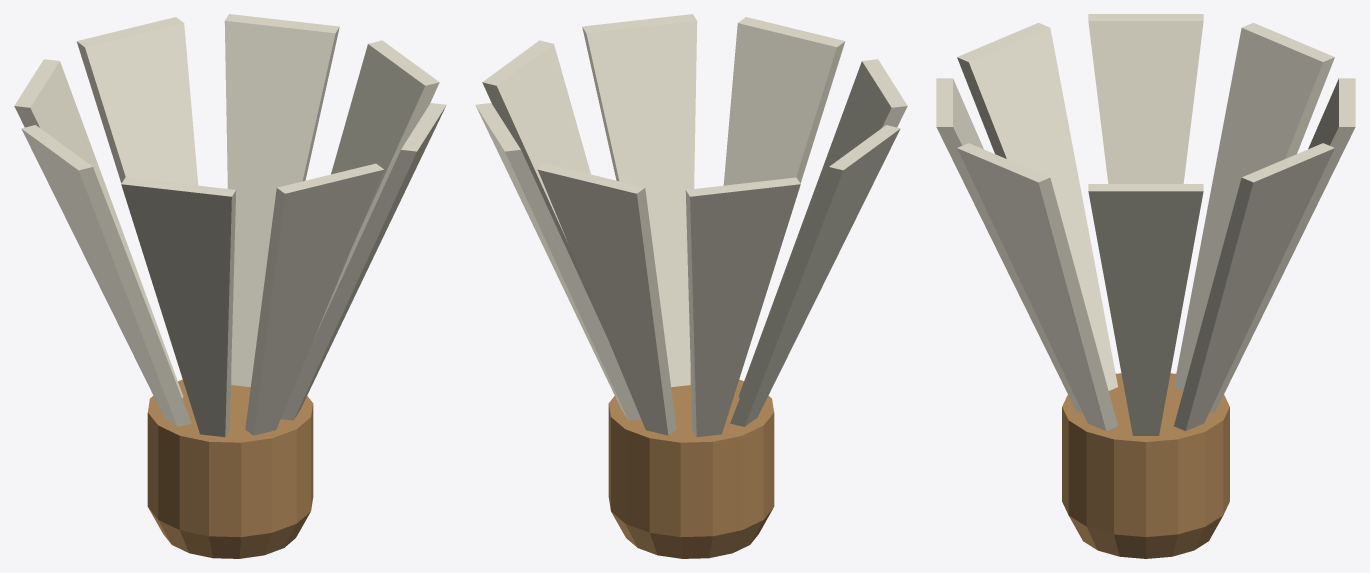
3 renders of one model, left to right at view 1: azimuth 30°, elevation 25°; view 2: azimuth 150°, elevation 25°; view 3: azimuth 270°, elevation 25°, orthographic.
Parts seen in each view (by area): view 1: OpenSkirtVane02, FacetedClosedCorkLikeHead, OpenSkirtVane06, OpenSkirtVane07, OpenSkirtVane03, OpenSkirtVane05, OpenSkirtVane01, OpenSkirtVane08, OpenSkirtVane04; view 2: OpenSkirtVane08, FacetedClosedCorkLikeHead, OpenSkirtVane04, OpenSkirtVane03, OpenSkirtVane07, OpenSkirtVane05, OpenSkirtVane01, OpenSkirtVane02, OpenSkirtVane06; view 3: FacetedClosedCorkLikeHead, OpenSkirtVane01, OpenSkirtVane05, OpenSkirtVane04, OpenSkirtVane06, OpenSkirtVane02, OpenSkirtVane08, OpenSkirtVane03, OpenSkirtVane07.
Boxes of the visible parts, x1,y1,x2,y2 form: OpenSkirtVane02: (224, 14, 339, 387); FacetedClosedCorkLikeHead: (147, 374, 313, 558); OpenSkirtVane06: (121, 177, 236, 437); OpenSkirtVane07: (245, 163, 384, 435); OpenSkirtVane03: (76, 17, 198, 185); OpenSkirtVane05: (21, 125, 191, 426); OpenSkirtVane01: (315, 40, 439, 335); OpenSkirtVane08: (281, 103, 446, 420); OpenSkirtVane04: (14, 59, 183, 398); OpenSkirtVane08: (582, 14, 697, 387); FacetedClosedCorkLikeHead: (608, 374, 774, 558); OpenSkirtVane04: (685, 177, 800, 437); OpenSkirtVane03: (537, 163, 676, 435); OpenSkirtVane07: (723, 17, 845, 185); OpenSkirtVane05: (730, 125, 900, 426); OpenSkirtVane01: (482, 40, 606, 335); OpenSkirtVane02: (475, 103, 640, 420); OpenSkirtVane06: (738, 59, 907, 398); FacetedClosedCorkLikeHead: (1062, 373, 1229, 558); OpenSkirtVane01: (1088, 184, 1203, 435); OpenSkirtVane05: (1088, 14, 1203, 183); OpenSkirtVane04: (1174, 23, 1334, 390); OpenSkirtVane06: (957, 23, 1117, 390); OpenSkirtVane02: (1174, 143, 1334, 431); OpenSkirtVane08: (957, 143, 1117, 431); OpenSkirtVane03: (1210, 78, 1355, 412); OpenSkirtVane07: (936, 78, 1081, 412).
Size of the model in its own units: 0.08 by 0.09 by 0.08.
